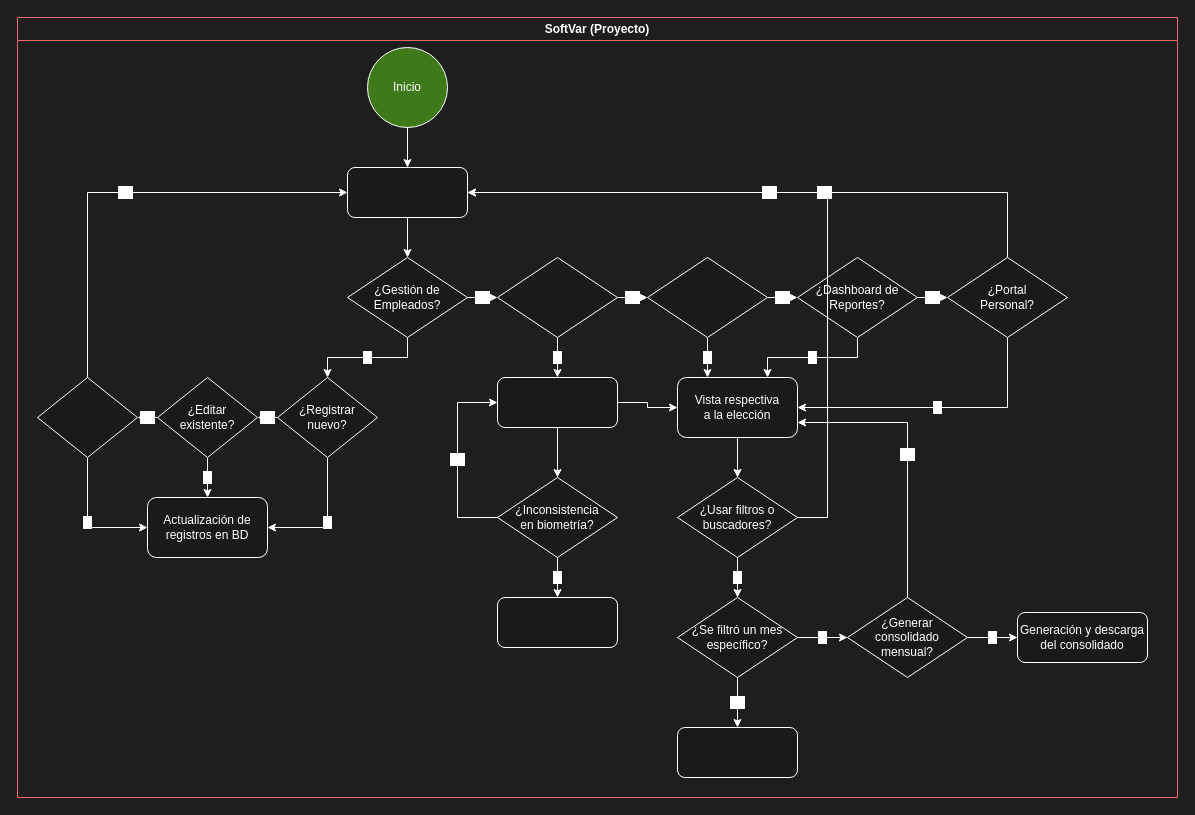
This 1195x815 diagram has some shape labels left out. The shapes that lost their labels are listed below. From the top down, each one's centre as x and y in pixels, then its label:
At [407,192]: "SoftVar".
At [557,297]: "¿Registro de Asistencia?".
At [707,297]: "¿Liquidación de Nómina?".
At [87,417]: "¿Desactivar empleado?".
At [557,402]: "Validación Facial y GPS".
At [557,622]: "Registro marcado para revisión".
At [737,752]: "Filtrar registros".
